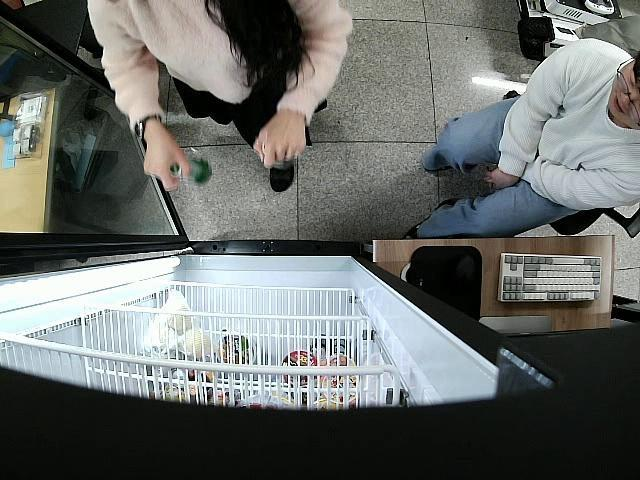18_trevi: (167, 154, 212, 186)
